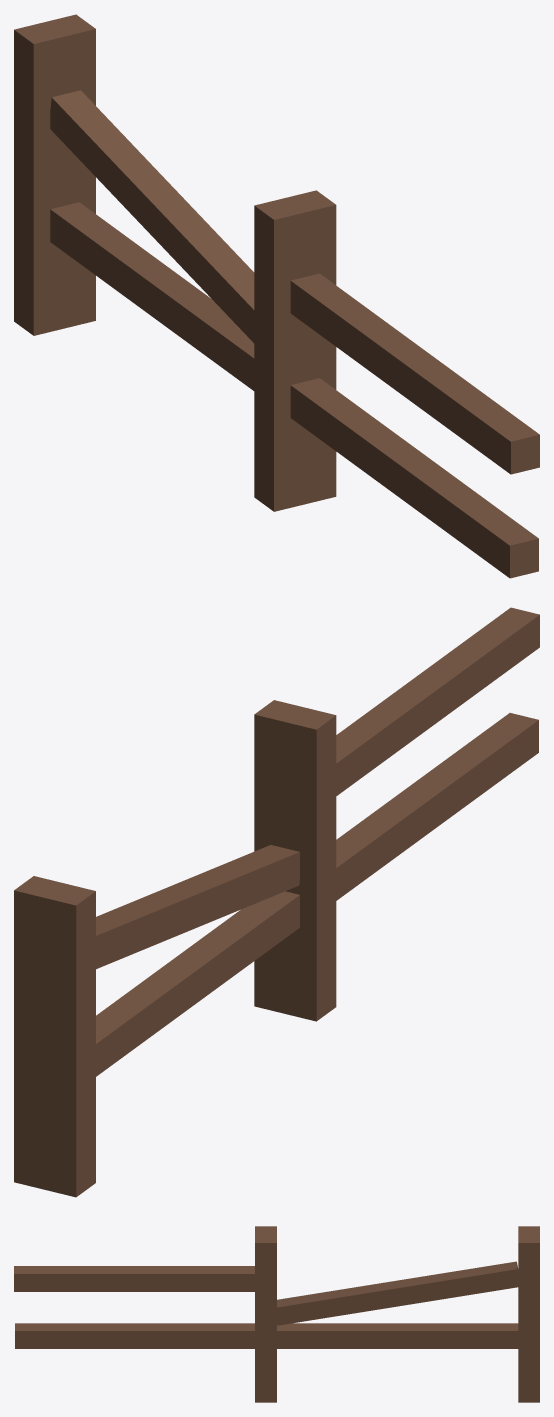
File: Cerca2.fbx
The picture shows the model from 3 angles, top to bottom: view 1: azimuth 30°, elevation 25°; view 2: azimuth 150°, elevation 25°; view 3: azimuth 270°, elevation 25°; orthographic projection. The views are drawn at different scales.
Visible parts, largest first — view 1: Cube, Cube.003, Cube.004, Cube.005, Cube.001, Cube.002; view 2: Cube.003, Cube, Cube.004, Cube.005, Cube.002, Cube.001; view 3: Cube.001, Cube.002, Cube.004, Cube.005, Cube, Cube.003.
Boxes of the visible parts, left/top/right/bottom form: Cube: left=254, top=190, right=336, bottom=511; Cube.003: left=14, top=14, right=95, bottom=335; Cube.004: left=290, top=273, right=539, bottom=474; Cube.005: left=290, top=378, right=538, bottom=578; Cube.001: left=50, top=90, right=254, bottom=343; Cube.002: left=50, top=202, right=254, bottom=390; Cube.003: left=14, top=876, right=95, bottom=1197; Cube: left=254, top=700, right=336, bottom=1021; Cube.004: left=336, top=607, right=539, bottom=795; Cube.005: left=336, top=713, right=538, bottom=900; Cube.002: left=96, top=891, right=299, bottom=1076; Cube.001: left=96, top=845, right=299, bottom=969; Cube.001: left=277, top=1261, right=518, bottom=1325; Cube.002: left=277, top=1323, right=518, bottom=1348; Cube.004: left=14, top=1266, right=254, bottom=1291; Cube.005: left=15, top=1323, right=254, bottom=1348; Cube: left=255, top=1226, right=276, bottom=1402; Cube.003: left=518, top=1226, right=539, bottom=1402.
Size of the model in its own units: 156 by 701 by 2091.
